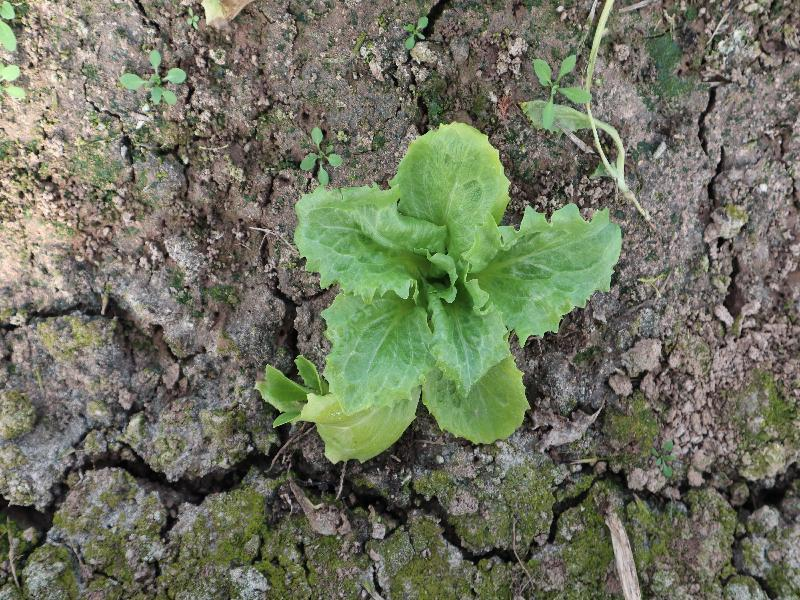lettuce: (254, 122, 623, 461)
